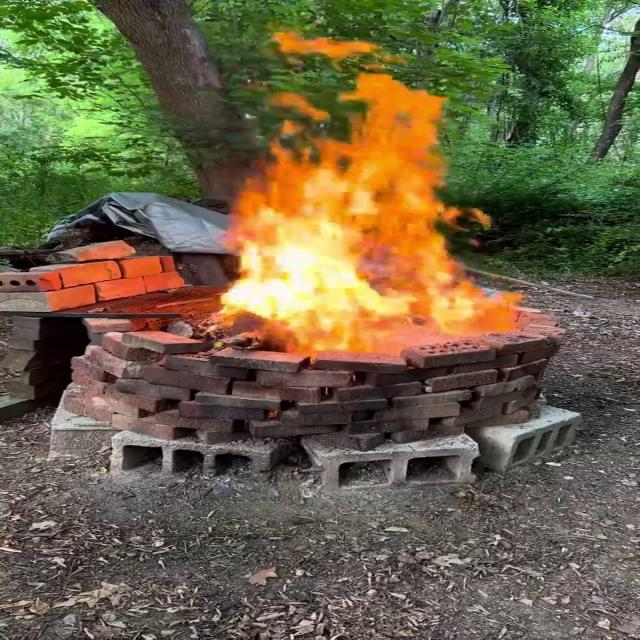Fire: (201, 32, 526, 356)
